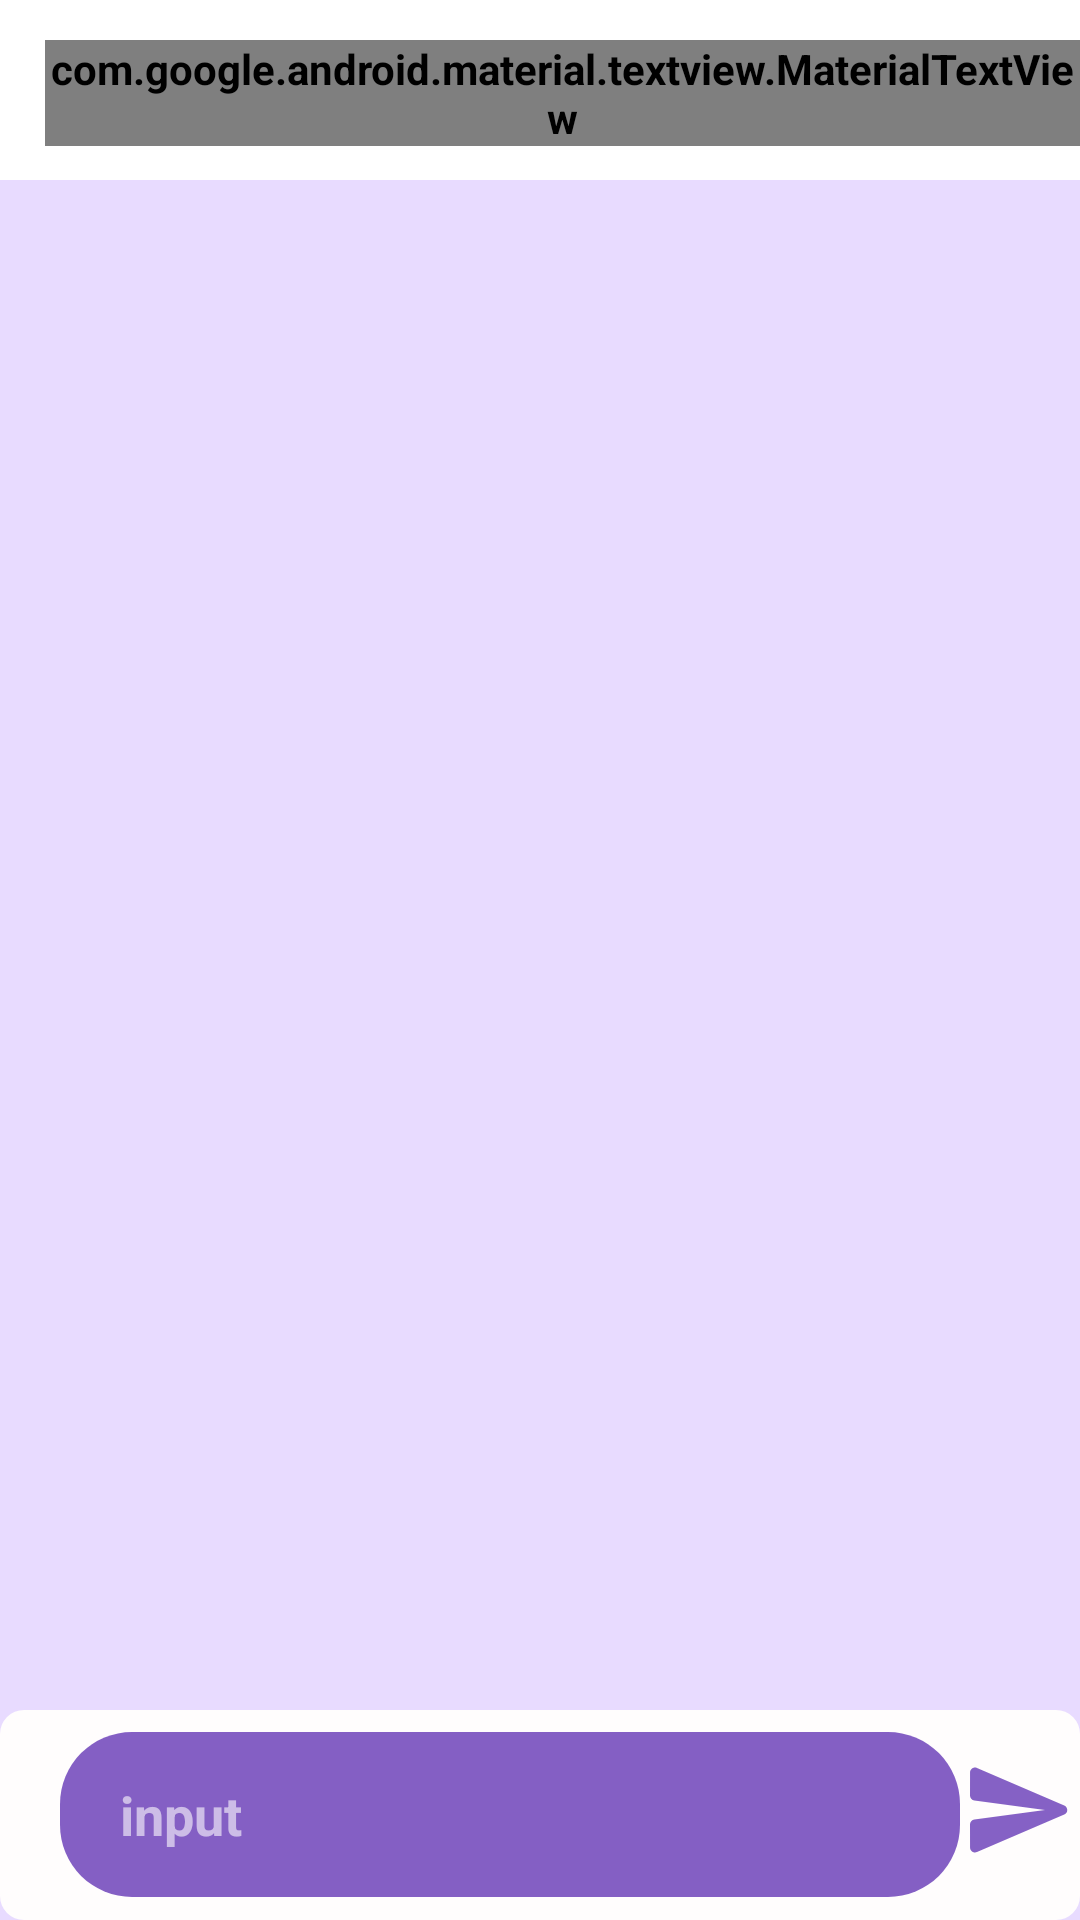

Icon bounding boxes for this 1080*1920 phone screenshot, format (x1, y1, x2, y2):
send: (970, 1767, 1068, 1853)
